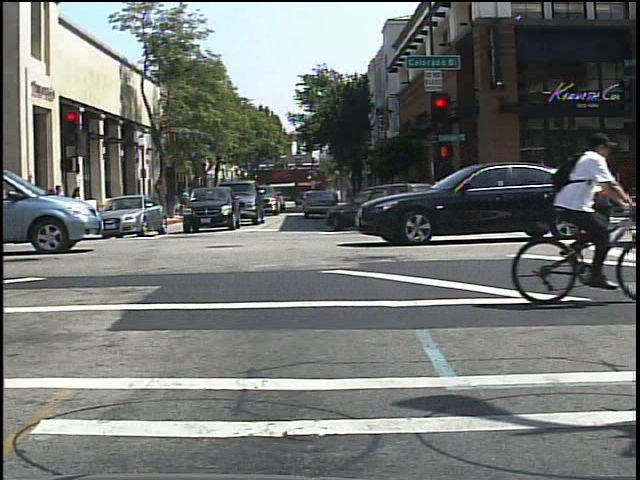person: (536, 117, 621, 296)
